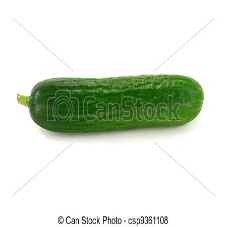cucumber: (32, 74, 200, 132)
